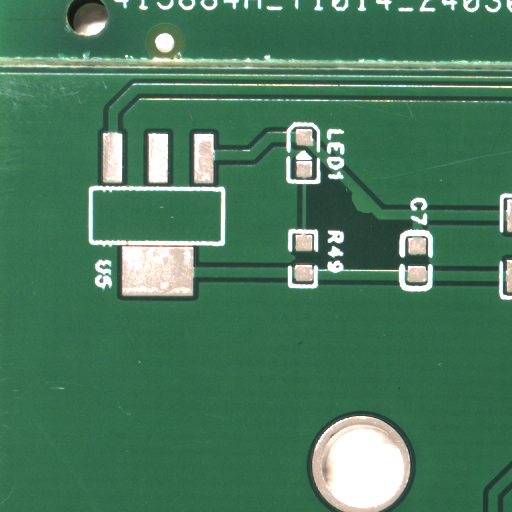Spur: (361, 204, 386, 227)
